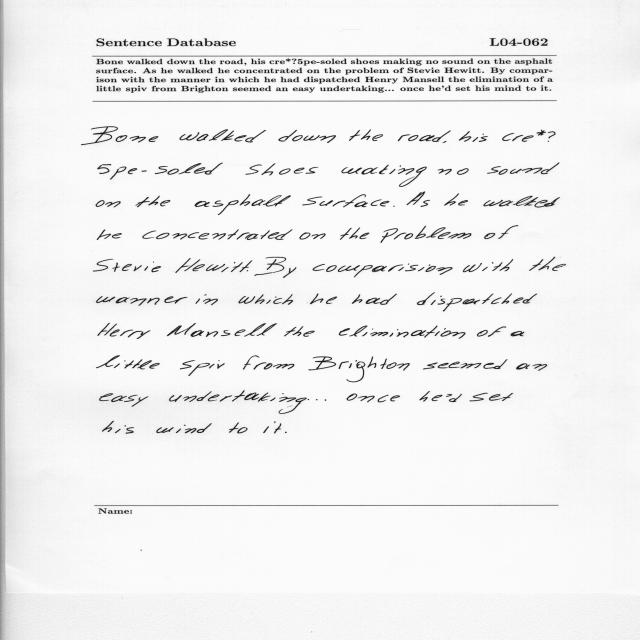word: (169, 391, 307, 414), (309, 357, 410, 383), (417, 293, 537, 312), (98, 163, 223, 180), (195, 194, 291, 215), (313, 264, 453, 278), (341, 165, 427, 187), (142, 229, 293, 240), (339, 326, 466, 339), (381, 226, 472, 243), (167, 323, 277, 337), (82, 127, 159, 145), (176, 258, 253, 273), (303, 194, 390, 207), (180, 130, 266, 143), (246, 163, 318, 176), (423, 359, 508, 370), (483, 196, 560, 208), (97, 296, 188, 306), (96, 356, 160, 370), (255, 257, 297, 278), (487, 163, 560, 175), (94, 259, 161, 272), (98, 323, 150, 339), (243, 355, 294, 370), (278, 130, 336, 143), (180, 360, 225, 376), (100, 393, 148, 407), (463, 259, 513, 272), (502, 130, 556, 142), (398, 130, 451, 142), (239, 294, 293, 305), (156, 423, 212, 433), (529, 257, 566, 271), (352, 294, 397, 305), (346, 394, 400, 403), (484, 226, 518, 239), (102, 421, 134, 434), (349, 129, 383, 141), (135, 196, 170, 207), (340, 227, 369, 240), (407, 192, 430, 207), (470, 393, 513, 401), (284, 326, 315, 337), (459, 131, 488, 142), (477, 326, 506, 337), (444, 193, 468, 206), (310, 294, 337, 305), (97, 229, 122, 240), (195, 295, 218, 306), (420, 391, 443, 402), (516, 363, 547, 371), (438, 168, 469, 175), (263, 422, 281, 434), (229, 423, 248, 434), (300, 233, 326, 240), (96, 200, 121, 207), (446, 394, 462, 402), (511, 331, 524, 336), (308, 399, 327, 401), (443, 141, 447, 143), (393, 206, 395, 207), (285, 432, 287, 433), (247, 270, 248, 271)
